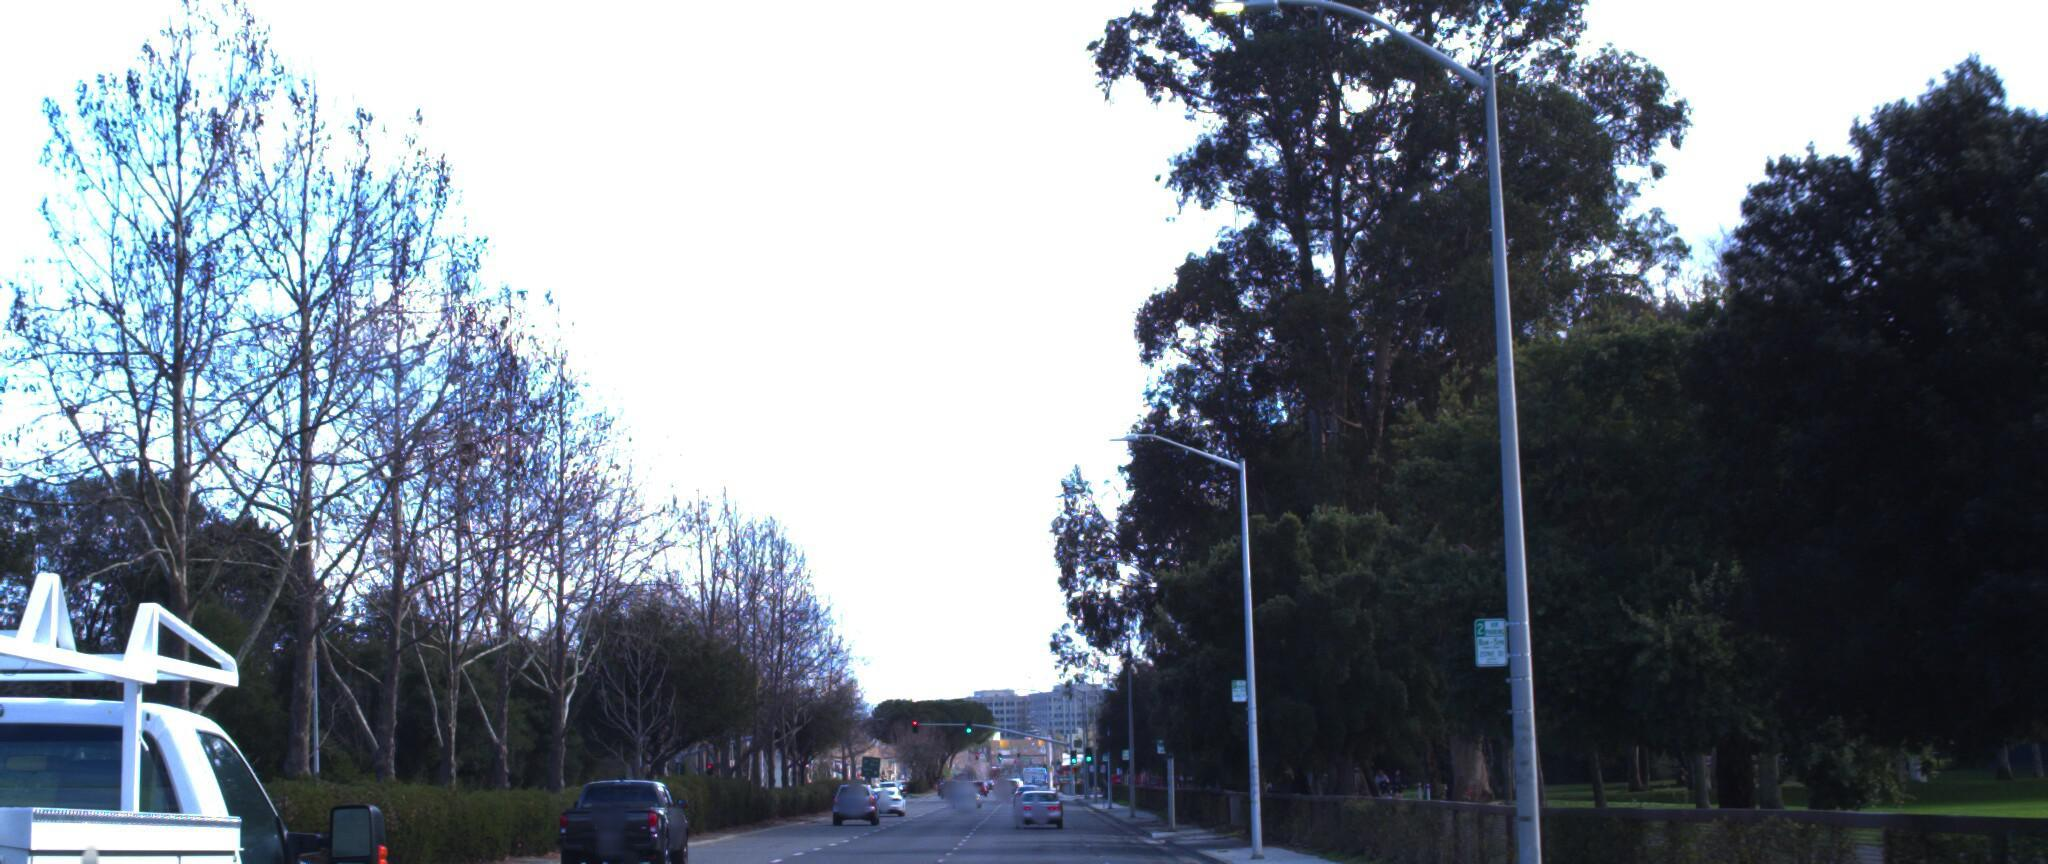car: (0, 510, 408, 864), (555, 773, 695, 864)
